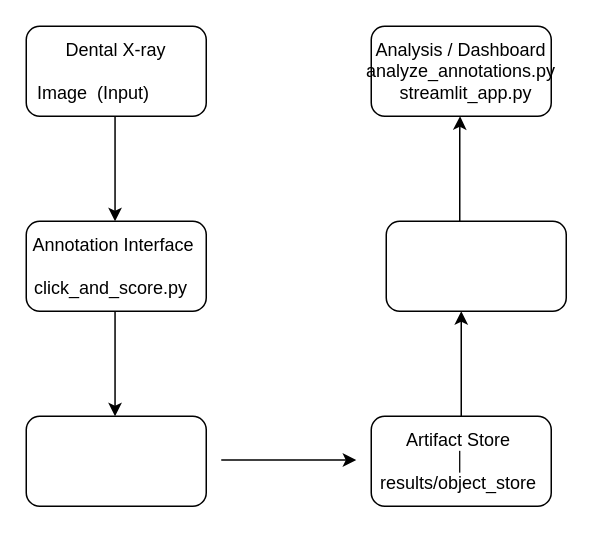
Some shapes in this 593 by 533 pixel diagram are drawn without their labels. The shapes that lost their labels are listed below. From the top down, each one's centre as x and y in pixels, then its label:
point 475,265: Integrity Layer │ │ SHA256 + metadata.json │ │ verify_run()
point 115,460: Scoring Engine scoring_core.py
